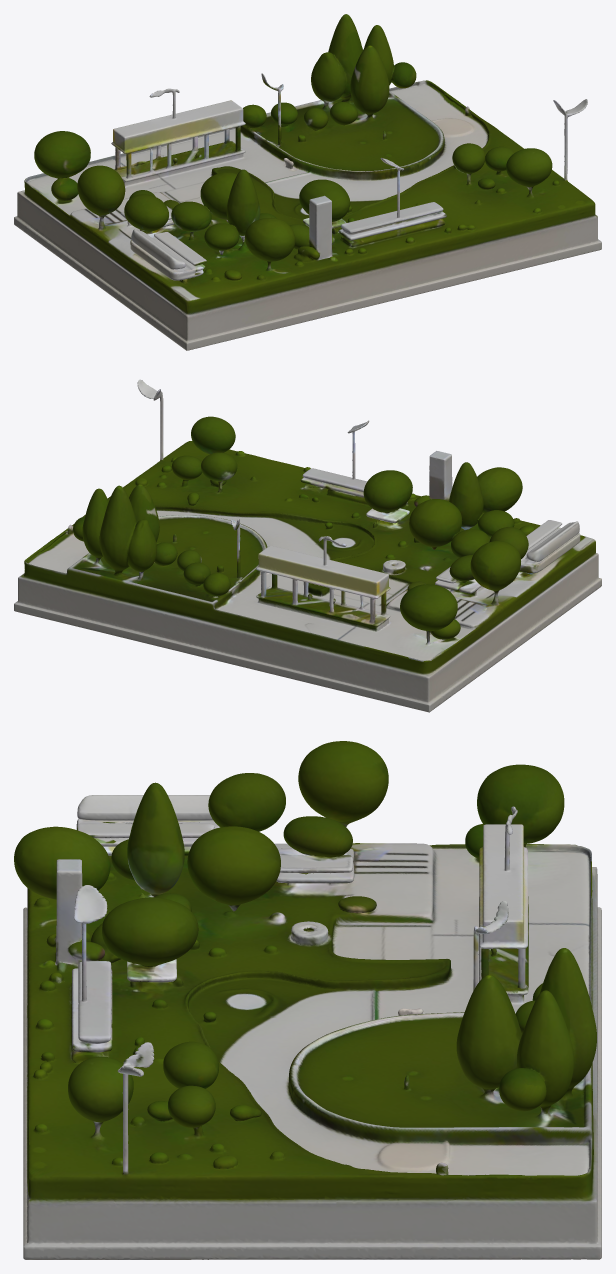
3 views of the same model, one above another, from view 1: azimuth 30°, elevation 25°; view 2: azimuth 150°, elevation 25°; view 3: azimuth 270°, elevation 25° (orthographic). The views are drawn at different scales.
Parts seen in each view (by area): view 1: tripo_node_3c3564bb-57fc-49d2-86fe-310ef30cbbad; view 2: tripo_node_3c3564bb-57fc-49d2-86fe-310ef30cbbad; view 3: tripo_node_3c3564bb-57fc-49d2-86fe-310ef30cbbad.
Boxes of the visible parts, left/top/right/bottom form: tripo_node_3c3564bb-57fc-49d2-86fe-310ef30cbbad: left=14, top=14, right=601, bottom=350; tripo_node_3c3564bb-57fc-49d2-86fe-310ef30cbbad: left=14, top=379, right=601, bottom=712; tripo_node_3c3564bb-57fc-49d2-86fe-310ef30cbbad: left=14, top=741, right=601, bottom=1259.
Bounding box in the file's own units: 100 × 30.4 × 69.
